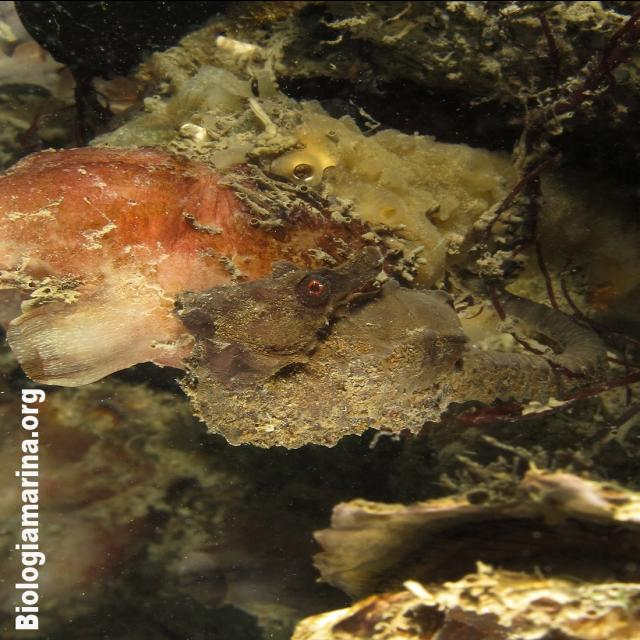Hippo: (148, 241, 392, 365)
